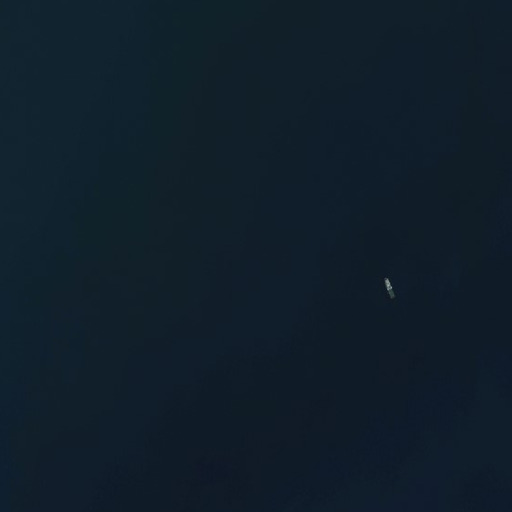ship: (380, 273, 397, 303)
